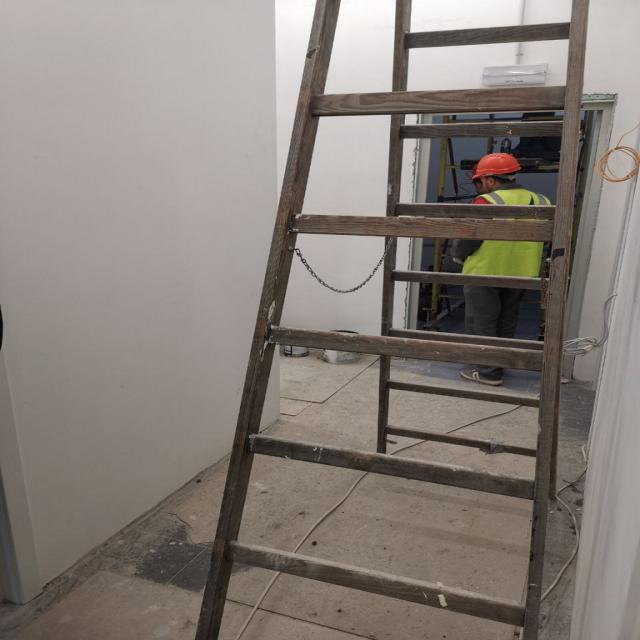Helmet: (473, 153, 523, 197)
